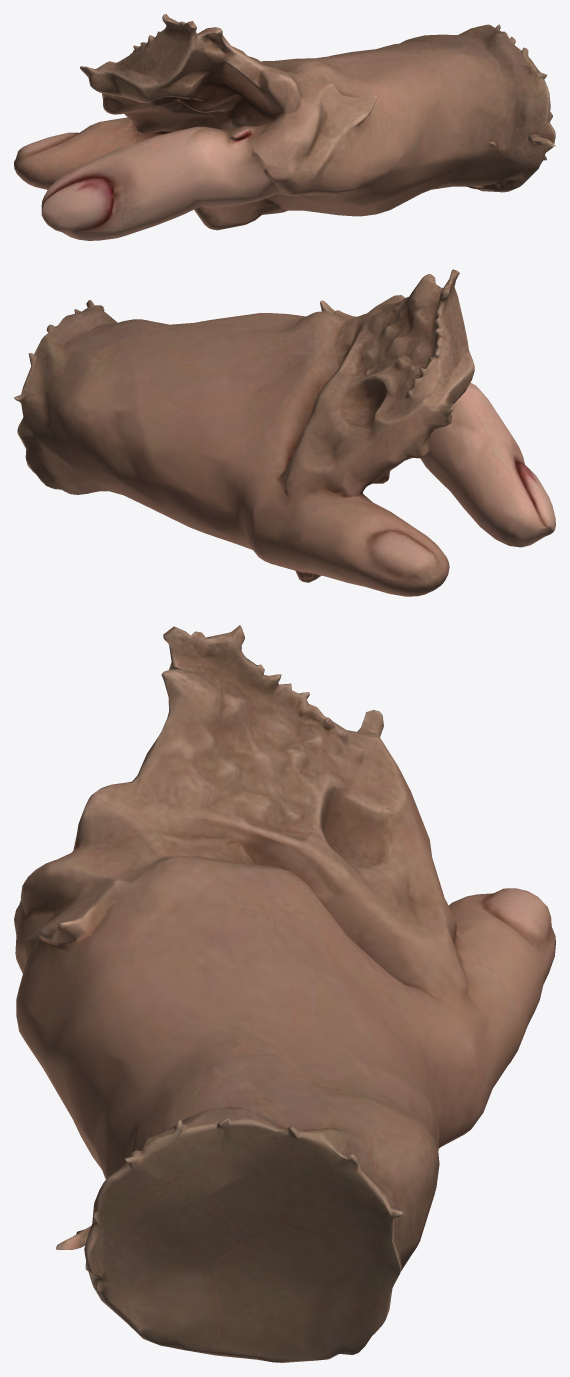
File: finger.glb
3 renders of one model, top to bottom at view 1: azimuth 30°, elevation 25°; view 2: azimuth 150°, elevation 25°; view 3: azimuth 270°, elevation 25°, orthographic. The views are drawn at different scales.
Parts seen in each view (by area): view 1: Mesh_0; view 2: Mesh_0; view 3: Mesh_0.
Part boxes in pixels (x1,y1,x2,y2): Mesh_0: (14,14,555,240); Mesh_0: (14,269,555,596); Mesh_0: (14,625,555,1362).
Size of the model in its own units: 1.9 by 1 by 1.06.
Materials: 1 (1 with a texture image).
